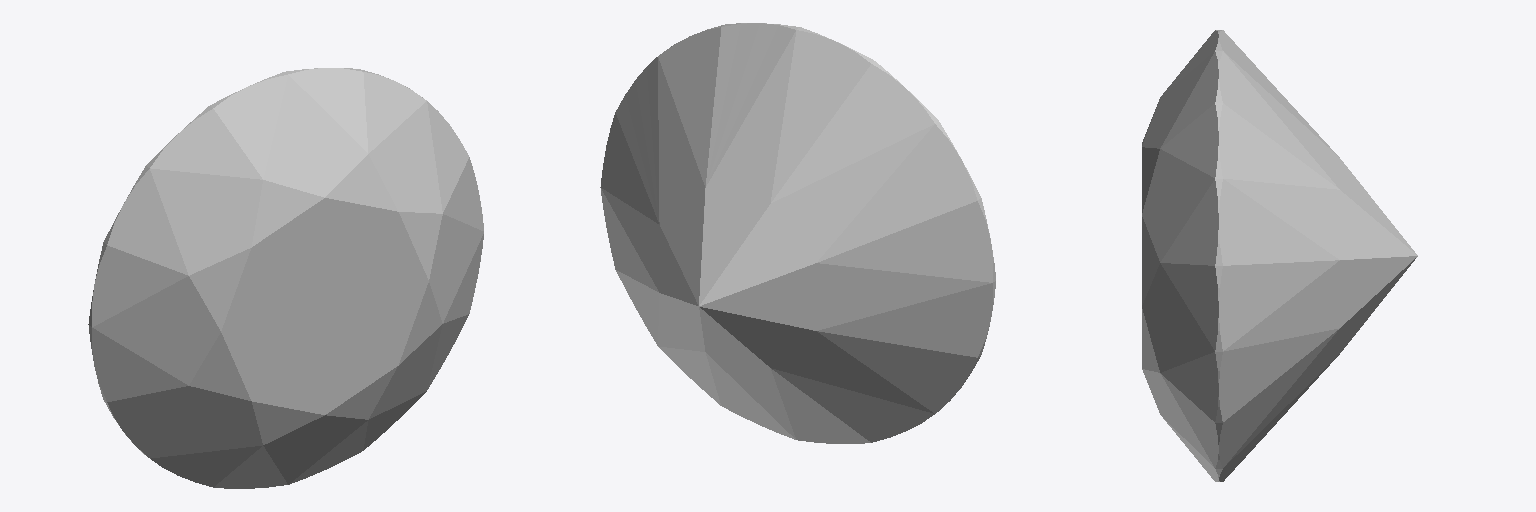
File: diamond.obj
The picture shows the model from 3 angles: view 1: azimuth 30°, elevation 25°; view 2: azimuth 150°, elevation 25°; view 3: azimuth 270°, elevation 25°; orthographic projection.
Size of the model in its own units: 4.27 by 4.27 by 2.6.